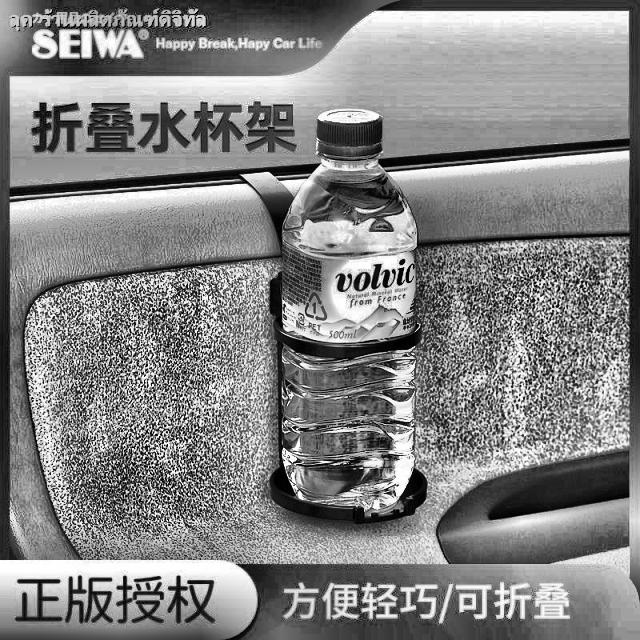waterbottle: (268, 100, 431, 521)
